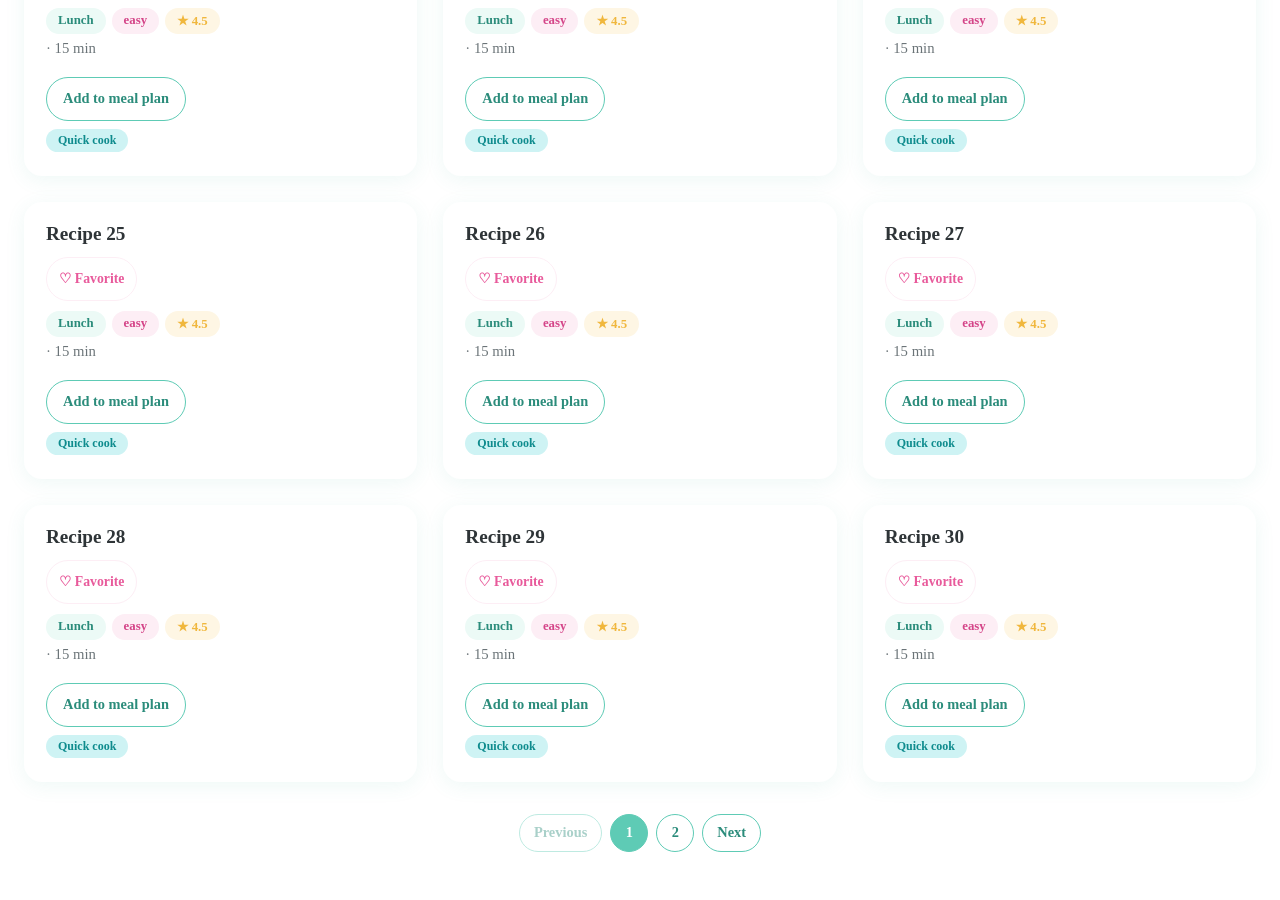
ApiRecipeList.vue › shows page 2 recipes when next page is clicked
(page scrolled)
Expected: the text "Recipe 31" is not shown
Click the button "Next". click: {"x": 732, "y": 832}
box: [702,814,761,852]
(page scrolled)
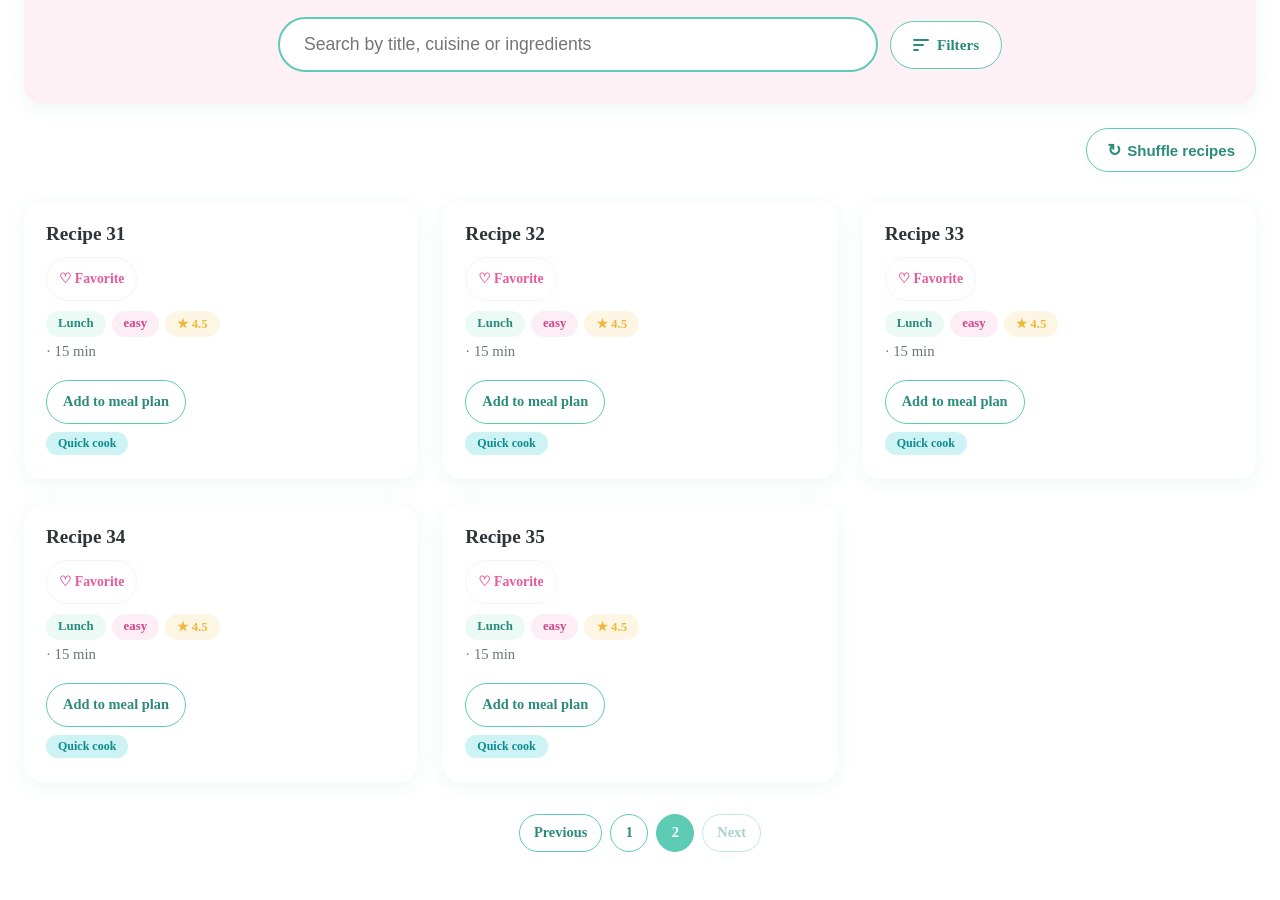
Result: the number of elements with class "recipe-card" is 5 at [24,202,417,479]; [443,202,837,479]; [863,202,1256,479]; [24,505,417,782]; [443,505,837,782]
Result: the text "Recipe 31" is shown at [46,223,125,244]
Result: the text "Recipe 35" is shown at [465,526,545,547]
